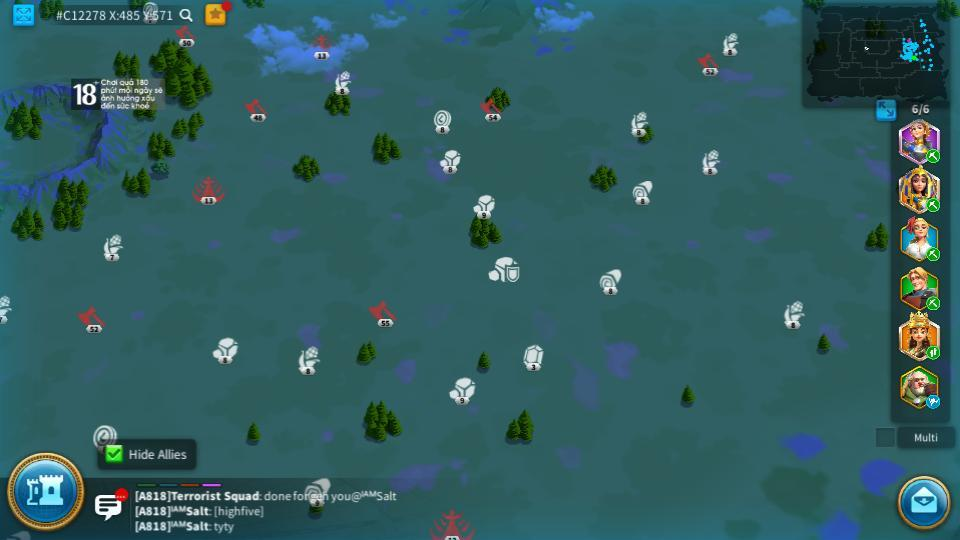gem-z-out: (521, 345, 545, 370)
march_farming: (925, 197, 941, 212), (924, 248, 939, 260)
march_idle: (925, 396, 942, 408)
march_marching: (925, 297, 942, 310), (925, 347, 941, 359), (925, 150, 941, 162)
